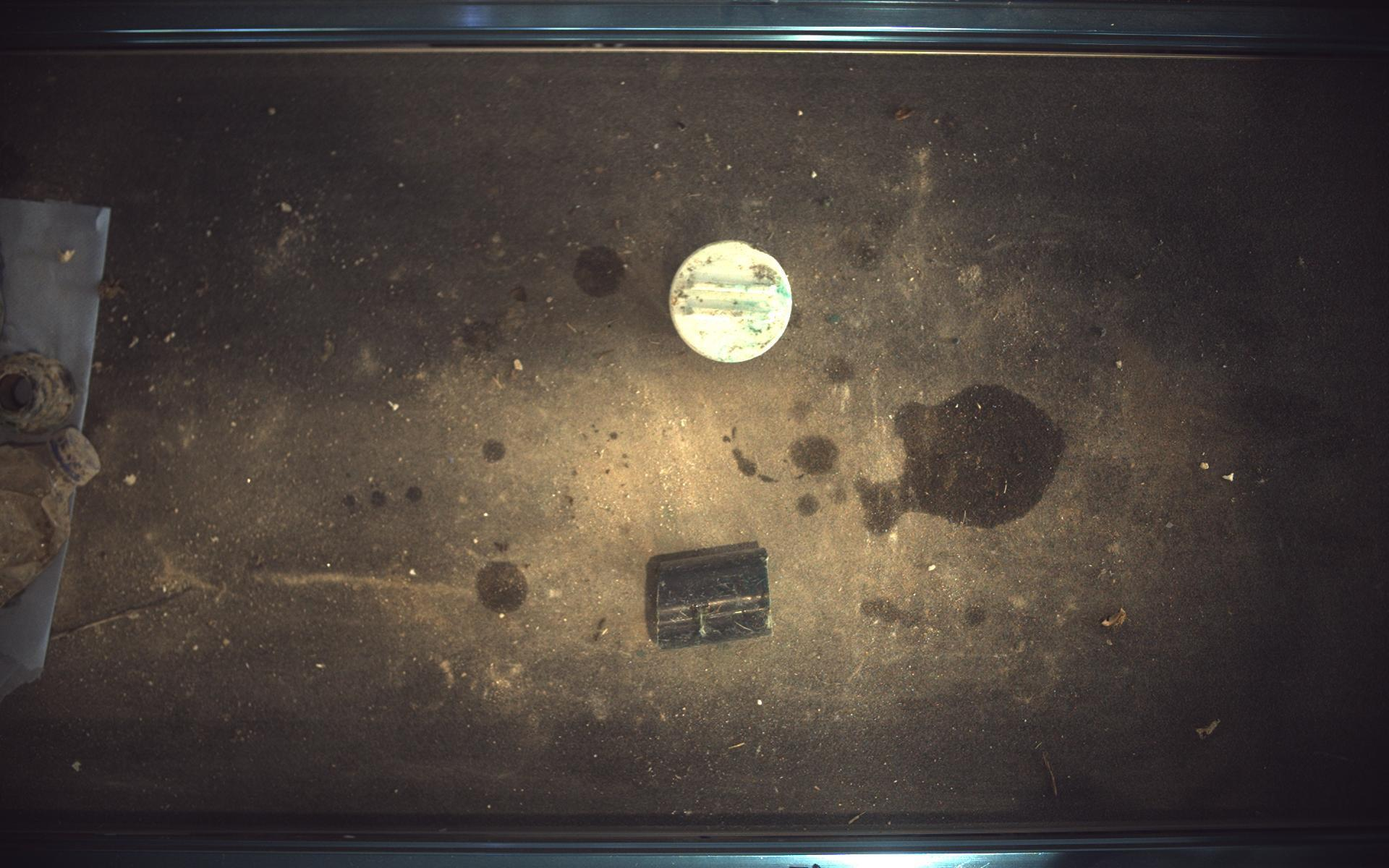pipes: (647, 542, 773, 649)
plastic: (671, 240, 793, 362)
